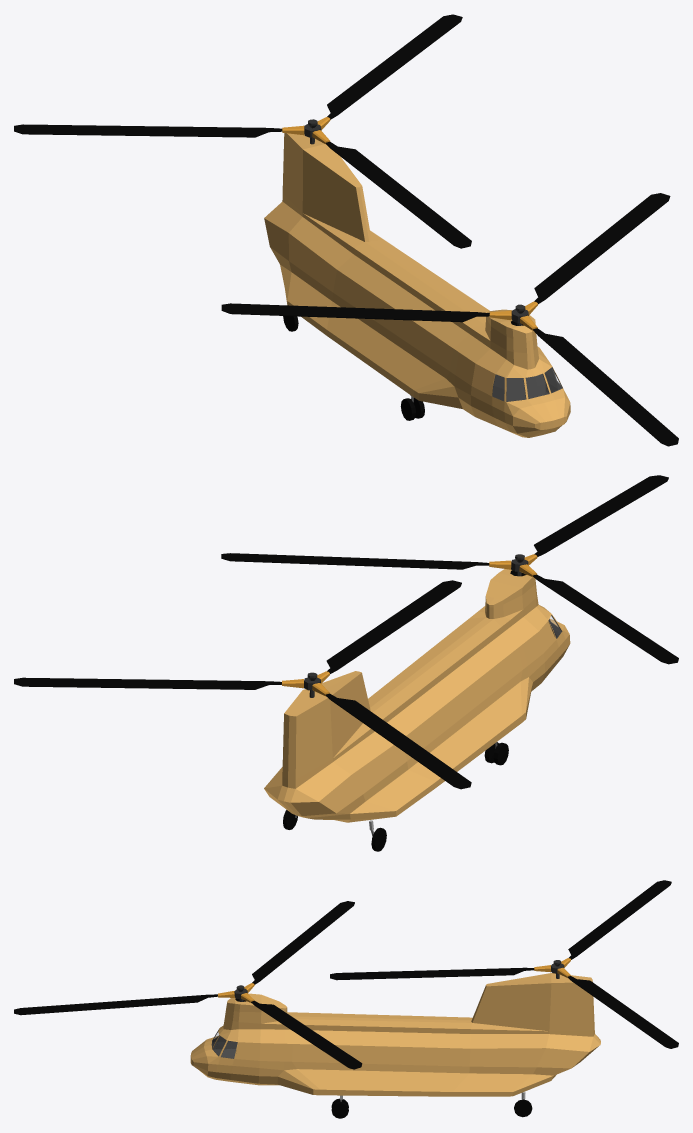
The picture shows the model from 3 angles, top to bottom: view 1: azimuth 30°, elevation 25°; view 2: azimuth 150°, elevation 25°; view 3: azimuth 270°, elevation 25°; orthographic projection. The views are drawn at different scales.
Parts seen in each view (by area): view 1: Circle.018, Circle.019, Circle.020, Circle.022; view 2: Circle.018, Circle.020, Circle.019; view 3: Circle.018, Circle.020, Circle.019, Circle.023.
Part boxes in pixels (x1=…): Circle.018: x1=264, y1=133, x2=570, y2=437; Circle.019: x1=221, y1=193, x2=678, y2=446; Circle.020: x1=14, y1=14, x2=471, y2=248; Circle.022: x1=507, y1=368, x2=561, y2=400; Circle.018: x1=264, y1=569, x2=570, y2=822; Circle.020: x1=14, y1=580, x2=471, y2=789; Circle.019: x1=221, y1=475, x2=678, y2=664; Circle.018: x1=190, y1=973, x2=600, y2=1096; Circle.020: x1=330, y1=880, x2=678, y2=1048; Circle.019: x1=14, y1=901, x2=362, y2=1069; Circle.023: x1=216, y1=1040, x2=238, y2=1073.
Bounding box in the file's own units: 1612 × 622 × 2688.
